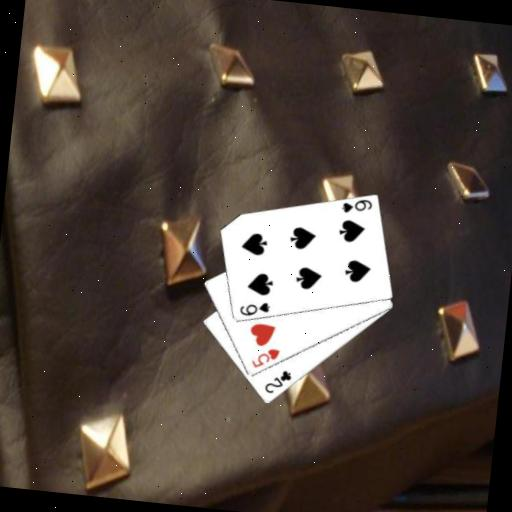2C: (261, 366, 294, 397)
5H: (248, 344, 282, 373)
6S: (338, 194, 374, 217), (236, 298, 272, 320)
